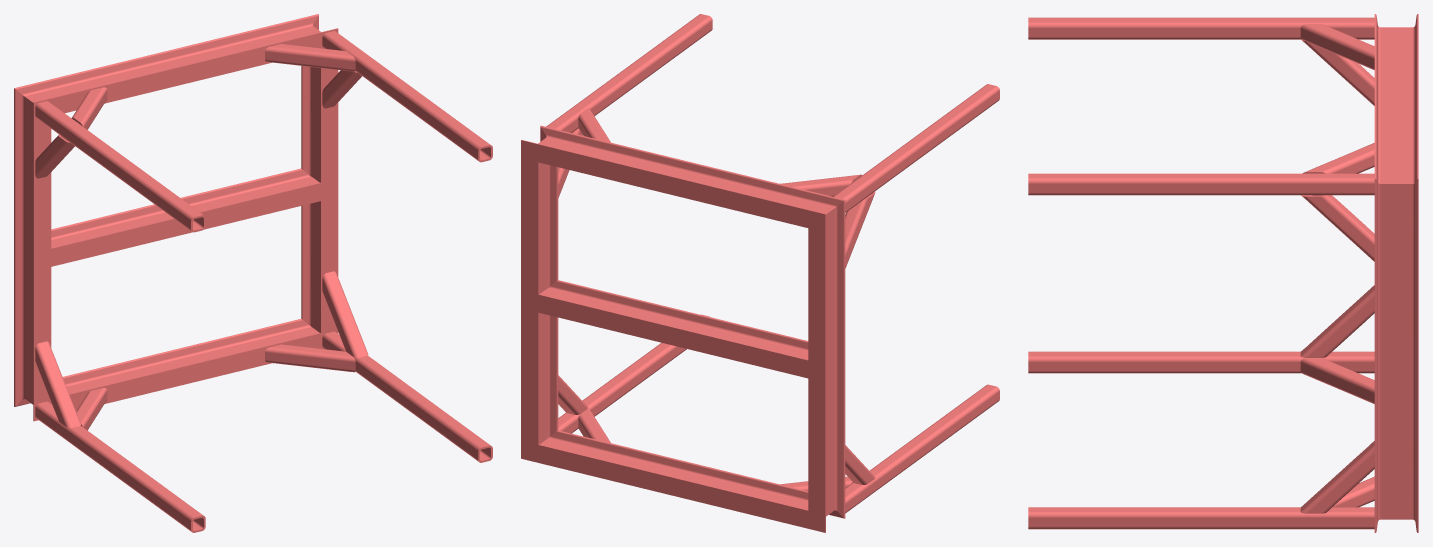
The picture shows the model from 3 angles, left to right: view 1: azimuth 30°, elevation 25°; view 2: azimuth 150°, elevation 25°; view 3: azimuth 270°, elevation 25°; orthographic projection. The views are drawn at different scales.
Parts seen in each view (by area): view 1: Part25.IGS (×43); view 2: Part25.IGS (×36); view 3: Part25.IGS (×38).
Part boxes in pixels (box(x1,y1,x2,y2)): Part25.IGS (×43): box(14, 14, 488, 529); Part25.IGS (×36): box(521, 14, 999, 532); Part25.IGS (×38): box(1028, 17, 1417, 532).
Bounding box in the file's own units: 1.06 × 1.06 × 1.06.
